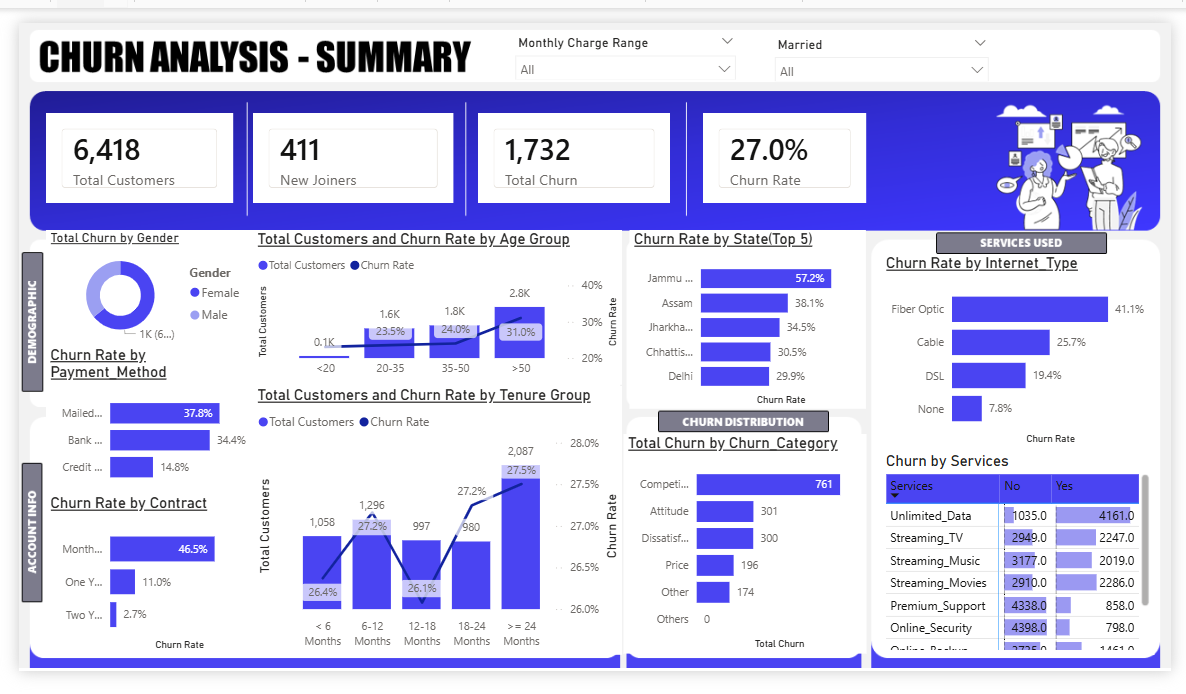

This screenshot's page, from the dashboard's own definition file:
{"tool":"powerbi","page":{"name":"Churn Analysis","canvas":[1280,720],"ordinal":0},"visuals":[{"type":"cardVisual","fields":{"Data":["tbl_Measures.Total Customers"]},"box":[30.2,100.2,207.9,100.2],"z":0},{"type":"cardVisual","fields":{"Data":["tbl_Measures.New Joiners"]},"box":[260.8,100.2,223,100.2],"z":1000},{"type":"cardVisual","fields":{"Data":["tbl_Measures.Total Churn"]},"box":[510.2,100.2,213.5,100.2],"z":2000},{"type":"cardVisual","fields":{"Data":["tbl_Measures.Churn Rate"]},"box":[759.7,100.2,181.4,100.2],"z":3000},{"type":"donutChart","fields":{"Category":["prod_Churn.Gender"],"Y":["tbl_Measures.Total Churn"]},"box":[30.2,230.6,230.6,128.5],"z":4000},{"type":"lineStackedColumnComboChart","fields":{"Category":["mapping_AgeGrp.Age Group"],"Y":["tbl_Measures.Total Customers"],"Y2":["tbl_Measures.Churn Rate"]},"box":[260.8,230.6,410.1,172],"z":5000},{"type":"clusteredBarChart","fields":{"Category":["prod_Churn.Payment_Method"],"Y":["tbl_Measures.Churn Rate"]},"box":[30.2,359.1,230.6,164.4],"z":6000},{"type":"clusteredBarChart","fields":{"Category":["prod_Churn.Contract"],"Y":["tbl_Measures.Churn Rate"]},"box":[30.2,523.5,230.6,177.6],"z":7000},{"type":"lineClusteredColumnComboChart","fields":{"Category":["mapping_TenureGrp.Tenure Group"],"Y":["tbl_Measures.Total Customers"],"Y2":["tbl_Measures.Churn Rate"]},"box":[260.8,402.5,410.1,298.6],"z":8000},{"type":"clusteredBarChart","title":"Churn Rate by State(Top 5)","fields":{"Category":["prod_Churn.State"],"Y":["tbl_Measures.Churn Rate"]},"box":[678.4,230.6,262.7,198.4],"z":9000},{"type":"clusteredBarChart","fields":{"Y":["tbl_Measures.Total Churn"],"Category":["prod_Churn.Churn_Category"]},"box":[670.9,457.3,270.2,243.8],"z":10000},{"type":"pivotTable","title":"Churn by Services","fields":{"Rows":["prod_Services.Services"],"Columns":["prod_Services.Status"],"Values":["Sum(prod_Services.Churn Status)"]},"box":[958.1,476.2,302.4,224.9],"z":11000},{"type":"clusteredBarChart","fields":{"Category":["prod_Churn.Internet_Type"],"Y":["tbl_Measures.Churn Rate"]},"box":[958.1,257,302.4,215.4],"z":12000},{"type":"slicer","fields":{"Values":["prod_Services.Monthly Charge Status"]},"box":[542.4,7.6,264.6,54.8],"z":13000},{"type":"slicer","fields":{"Values":["prod_Churn.Married"]},"box":[829.6,9.4,257,54.8],"z":14000}]}

Visuals, with their boxes on the page's 1280x720 design canvas (x1, y1, x2, y2). These are canvas units, not pixel positions in the 1186x694 screenshot, which may show the page scaled, cropped or inside an application window:
cardVisual - tbl_Measures.Total Customers: (left=30, top=100, right=238, bottom=200)
cardVisual - tbl_Measures.New Joiners: (left=261, top=100, right=484, bottom=200)
cardVisual - tbl_Measures.Total Churn: (left=510, top=100, right=724, bottom=200)
cardVisual - tbl_Measures.Churn Rate: (left=760, top=100, right=941, bottom=200)
donutChart - prod_Churn.Gender x tbl_Measures.Total Churn: (left=30, top=231, right=261, bottom=359)
lineStackedColumnComboChart - mapping_AgeGrp.Age Group x tbl_Measures.Total Customers: (left=261, top=231, right=671, bottom=403)
clusteredBarChart - prod_Churn.Payment_Method x tbl_Measures.Churn Rate: (left=30, top=359, right=261, bottom=524)
clusteredBarChart - prod_Churn.Contract x tbl_Measures.Churn Rate: (left=30, top=524, right=261, bottom=701)
lineClusteredColumnComboChart - mapping_TenureGrp.Tenure Group x tbl_Measures.Total Customers: (left=261, top=402, right=671, bottom=701)
"Churn Rate by State(Top 5)" clusteredBarChart: (left=678, top=231, right=941, bottom=429)
clusteredBarChart - tbl_Measures.Total Churn x prod_Churn.Churn_Category: (left=671, top=457, right=941, bottom=701)
"Churn by Services" pivotTable: (left=958, top=476, right=1260, bottom=701)
clusteredBarChart - prod_Churn.Internet_Type x tbl_Measures.Churn Rate: (left=958, top=257, right=1260, bottom=472)
slicer - prod_Services.Monthly Charge Status: (left=542, top=8, right=807, bottom=62)
slicer - prod_Churn.Married: (left=830, top=9, right=1087, bottom=64)
